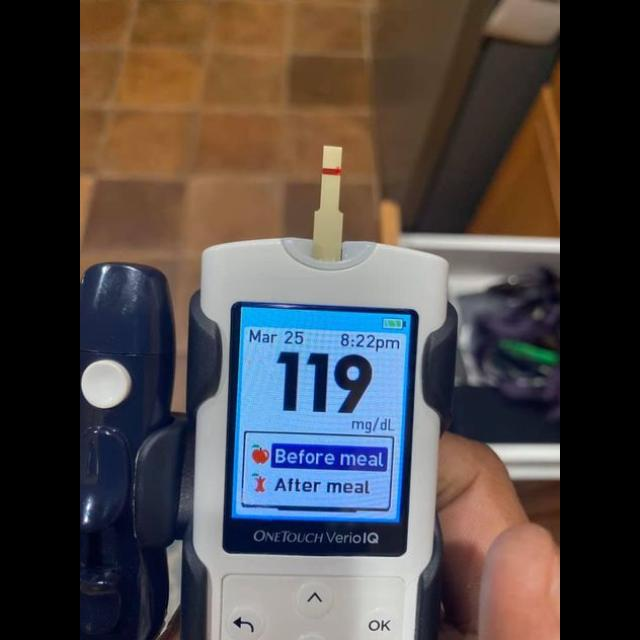Glucose-Meter: (182, 146, 456, 639)
